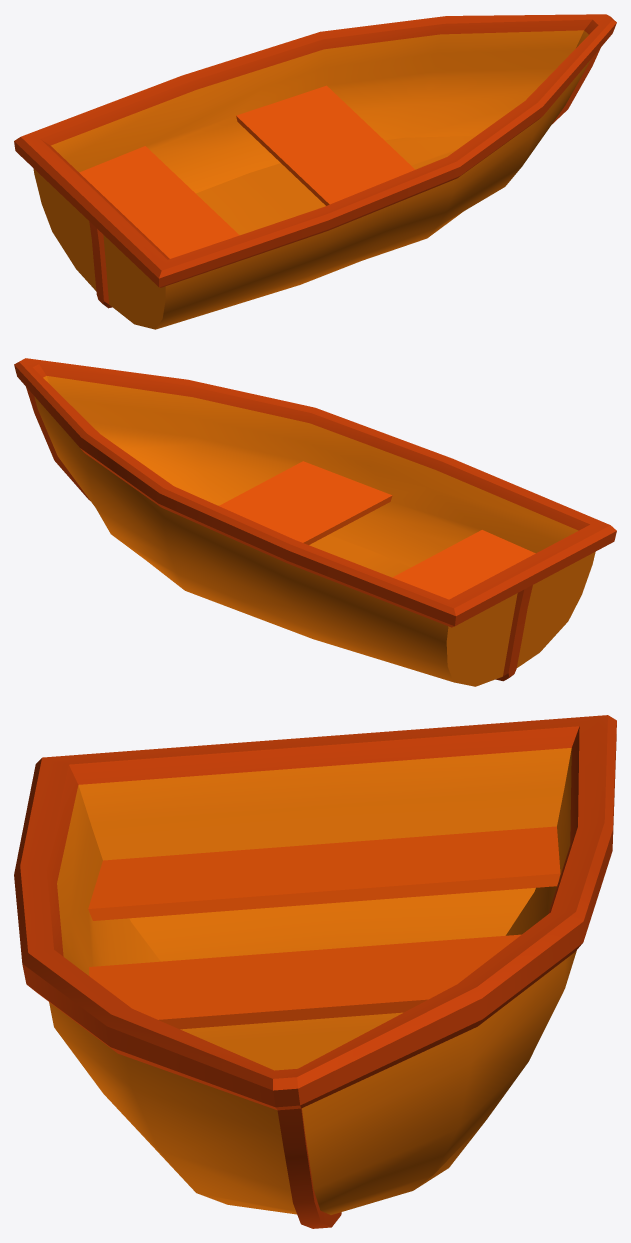
The picture shows the model from 3 angles, top to bottom: view 1: azimuth 30°, elevation 25°; view 2: azimuth 150°, elevation 25°; view 3: azimuth 270°, elevation 25°; orthographic projection. The views are drawn at different scales.
Parts seen in each view (by area): view 1: Boat; view 2: Boat; view 3: Boat.
Boxes of the visible parts, bbox=[...] form: Boat: bbox=[14, 14, 616, 329]; Boat: bbox=[14, 358, 616, 686]; Boat: bbox=[14, 715, 616, 1228].
Size of the model in its own units: 653 by 225 by 341.
